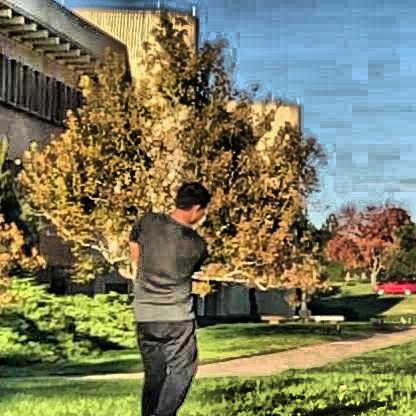golfball: (310, 309, 318, 319)
